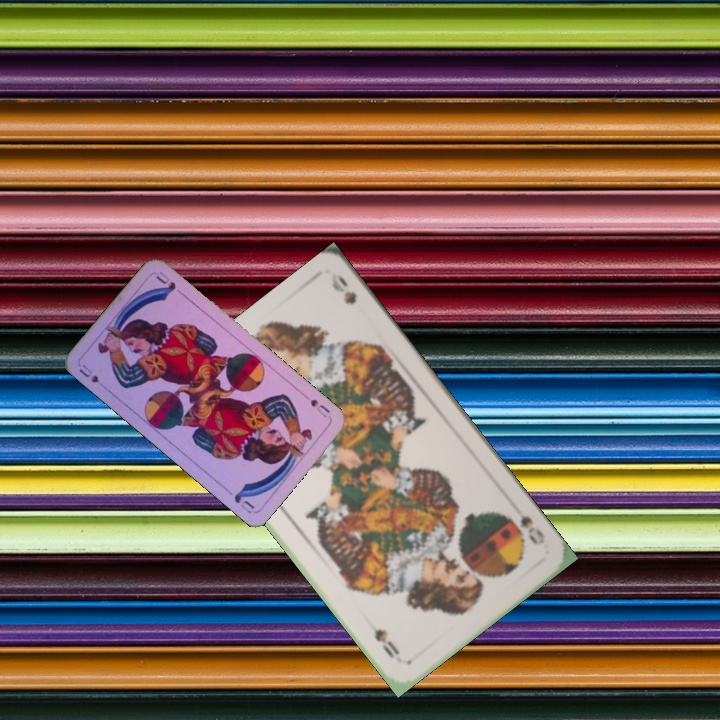SO: (500, 500, 548, 548)
SU: (75, 360, 102, 386), (306, 395, 333, 420)
